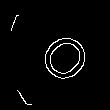O_SW: (23, 23, 90, 90)
